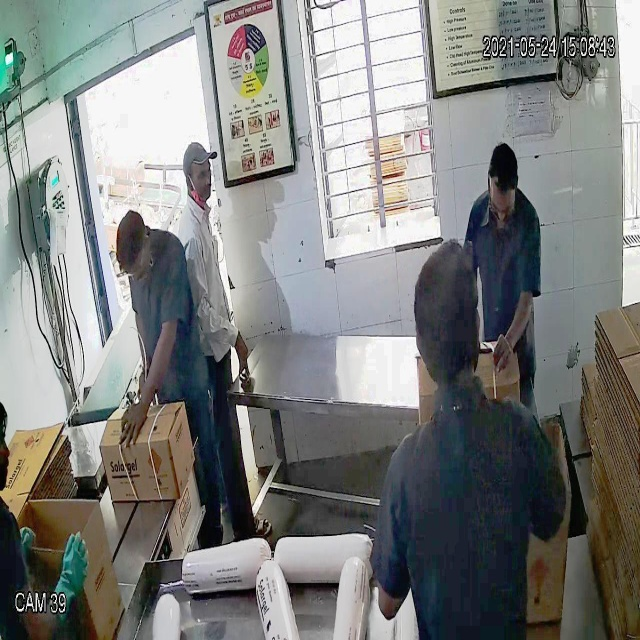Sin_gafas: (183, 163, 216, 188)
